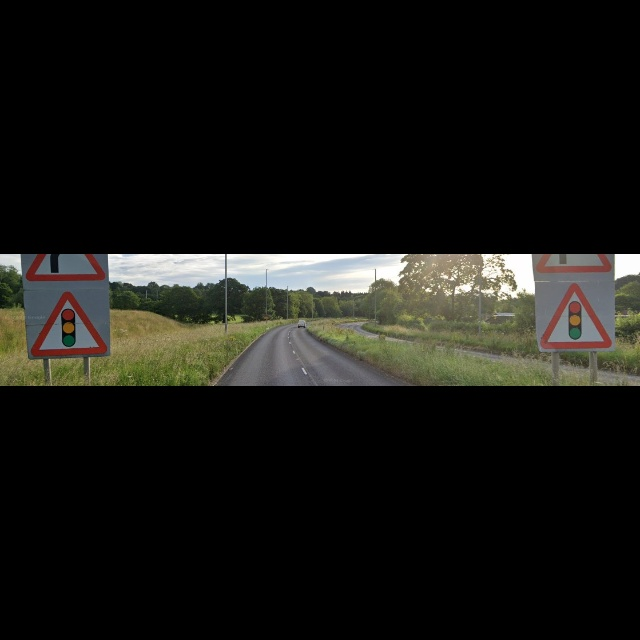Traffic lights: (29, 289, 109, 358), (539, 283, 612, 351)
